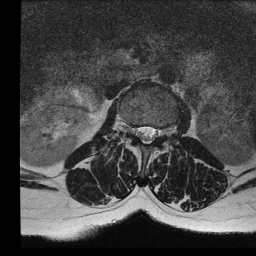CCS_normal: (143, 120, 149, 149)
LFS_normal: (157, 122, 164, 142)
LLS_normal: (149, 122, 157, 143)
RFS_normal: (128, 120, 136, 139)
RLS_normal: (136, 120, 143, 144)
